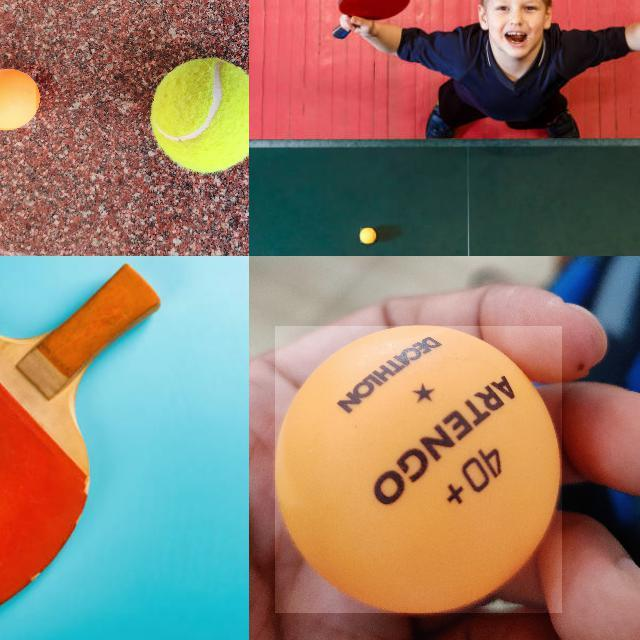ping-pong-ball: (274, 326, 564, 614), (0, 69, 38, 130), (360, 228, 374, 244)
